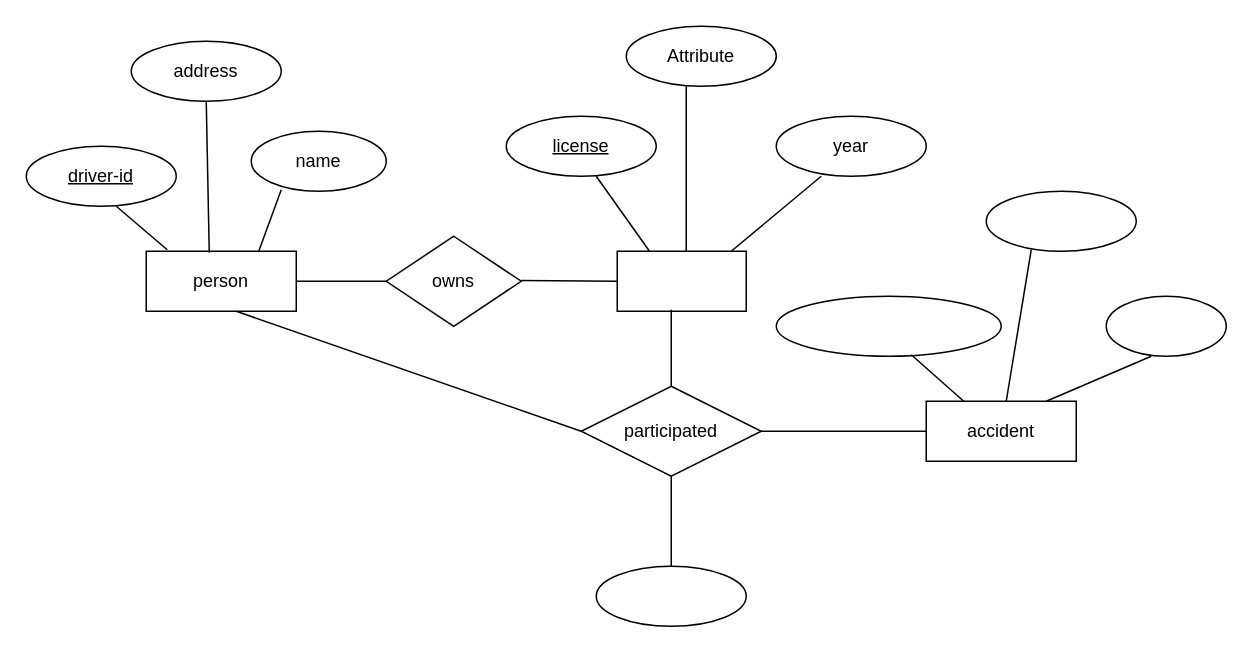
The diagram is 1253 pixels wide and 653 high, and some of its shapes have lost their labels. Each missing label, with the box of its shape:
car: (616, 250, 746, 311)
damage-amount: (595, 565, 746, 626)
date: (1105, 295, 1226, 356)
location: (985, 190, 1136, 251)
report-number: (775, 295, 1001, 356)
